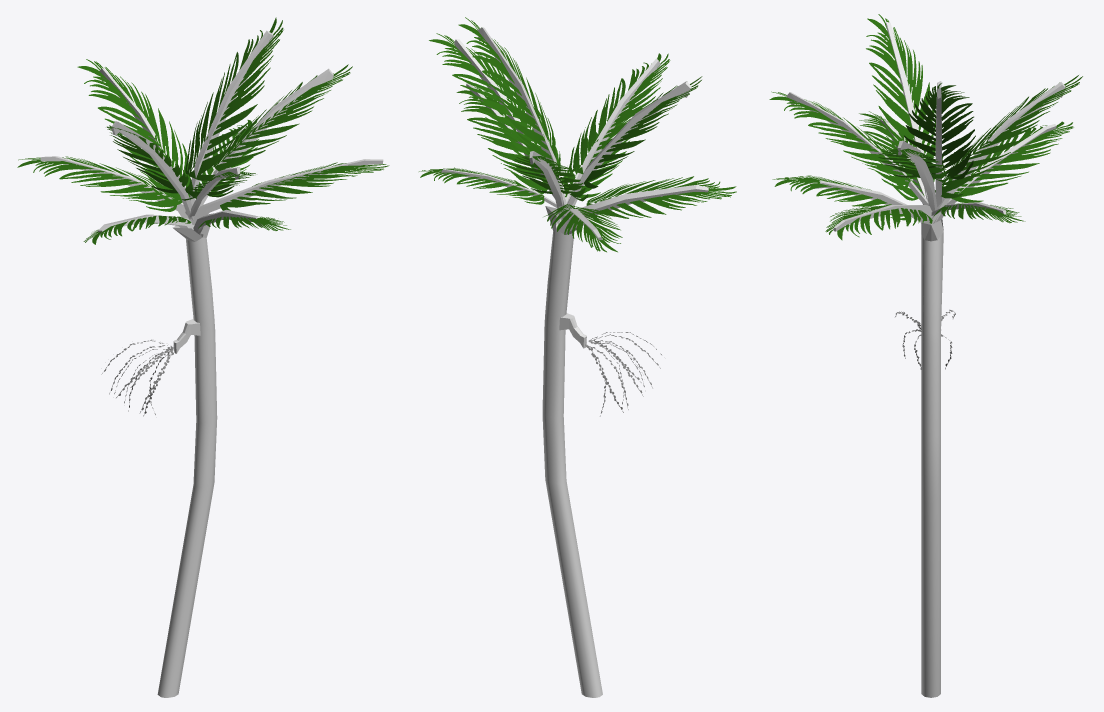
File: newacai (1).fbx
3 renders of one model, left to right at view 1: azimuth 30°, elevation 25°; view 2: azimuth 150°, elevation 25°; view 3: azimuth 270°, elevation 25°, orthographic. The views are drawn at different scales.
Visible parts, largest first — view 1: tronco, leaf006, leaf005, leaf007, leaf004, leaf, Box006, leaf003, Box001, Box012, Box011, Box003 (+3 smaller); view 2: tronco, leaf006, leaf009, leaf007, leaf002, leaf, leaf003, leaf004, leaf008, Box011, leaf005, Box002 (+6 smaller); view 3: tronco, leaf003, leaf006, leaf005, leaf009, leaf004, leaf, leaf001, Box010, leaf007, Box014, leaf002 (+7 smaller).
Part boxes in pixels (left/top/right/bottom): tronco: left=157, top=213, right=217, bottom=697; leaf006: left=185, top=17, right=283, bottom=180; leaf005: left=77, top=59, right=190, bottom=204; leaf007: left=213, top=64, right=352, bottom=171; leaf004: left=17, top=156, right=178, bottom=211; leaf: left=220, top=162, right=389, bottom=210; Box006: left=185, top=30, right=273, bottom=215; leaf003: left=107, top=125, right=196, bottom=198; Box001: left=189, top=159, right=383, bottom=224; Box012: left=198, top=68, right=333, bottom=208; Box011: left=111, top=121, right=194, bottom=220; Box003: left=40, top=156, right=188, bottom=218; tronco: left=542, top=206, right=602, bottom=697; leaf006: left=458, top=17, right=560, bottom=183; leaf009: left=569, top=53, right=670, bottom=174; leaf007: left=429, top=33, right=555, bottom=164; leaf002: left=586, top=176, right=736, bottom=223; leaf: left=456, top=86, right=569, bottom=194; leaf003: left=584, top=76, right=702, bottom=188; leaf004: left=544, top=204, right=622, bottom=252; leaf008: left=419, top=167, right=544, bottom=204; Box011: left=567, top=81, right=691, bottom=206; leaf005: left=512, top=156, right=588, bottom=201; Box002: left=567, top=185, right=708, bottom=220; tronco: left=921, top=219, right=943, bottom=697; leaf003: left=866, top=14, right=942, bottom=179; leaf006: left=904, top=83, right=975, bottom=179; leaf005: left=935, top=75, right=1082, bottom=198; leaf009: left=769, top=91, right=910, bottom=190; leaf004: left=942, top=121, right=1073, bottom=202; leaf: left=825, top=206, right=932, bottom=240; leaf001: left=772, top=175, right=905, bottom=220; Box010: left=932, top=82, right=1065, bottom=222; leaf007: left=878, top=148, right=950, bottom=182; Box014: left=786, top=92, right=928, bottom=205; leaf002: left=859, top=111, right=934, bottom=200.
Size of the model in its own units: 112 by 229 by 100.
